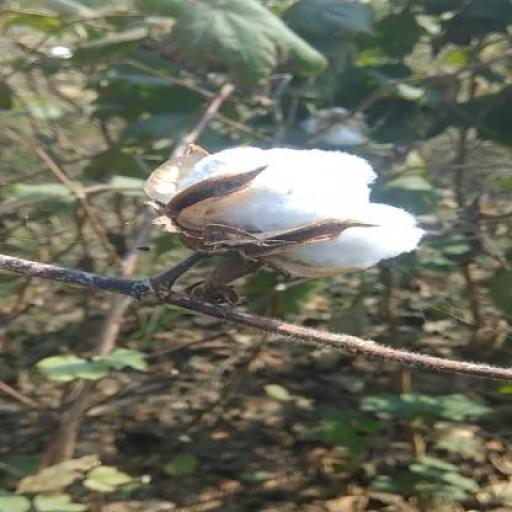cotton_ready: (115, 133, 413, 333)
